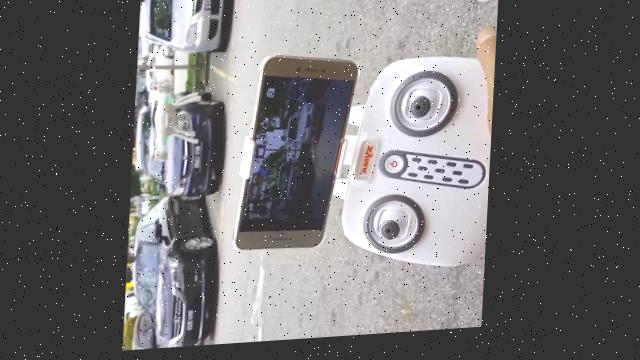drone: (142, 73, 203, 173)
